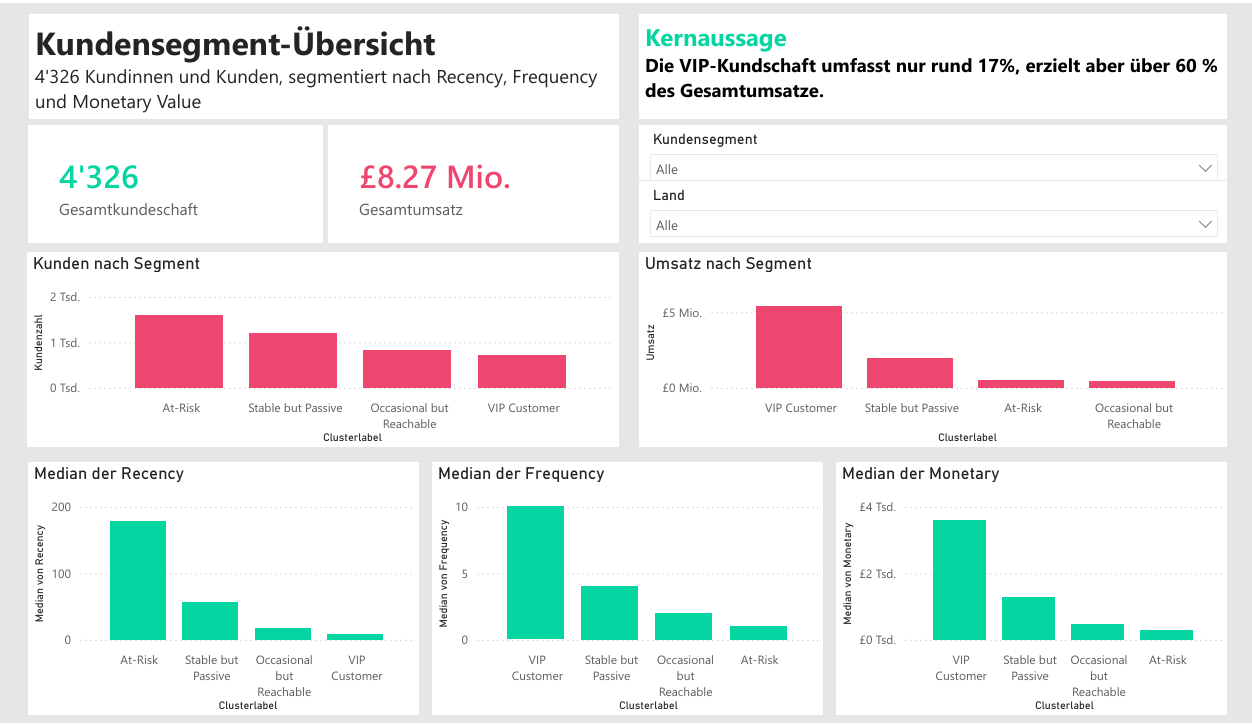

What the dashboard file says about the page in this screenshot:
{"tool":"powerbi","page":{"name":"Kundensegment-Übersicht","canvas":[1280,720],"ordinal":0},"visuals":[{"type":"cardVisual","fields":{"Data":["Count(rfm_final_cluster.CustomerID)"]},"box":[29,122,295,118],"z":0},{"type":"cardVisual","fields":{"Data":["Sum(rfm_final_cluster.AdjMonetary)"]},"box":[329,122,291,118],"z":1000},{"type":"columnChart","title":"Kunden nach Segment","fields":{"Category":["rfm_final_cluster.Clusterlabel"],"Y":["CountNonNull(rfm_final_cluster.CustomerID)"]},"box":[28,249,592,195],"z":2000},{"type":"columnChart","title":"Umsatz nach Segment","fields":{"Category":["rfm_final_cluster.Clusterlabel"],"Y":["Sum(rfm_final_cluster.AdjMonetary)"]},"box":[640,249,588.4,195],"z":3000},{"type":"slicer","fields":{"Values":["rfm_final_cluster.Clusterlabel"]},"box":[640,122,588,55],"z":4000},{"type":"slicer","fields":{"Values":["rfm_final_cluster.Country"]},"box":[640,178,588,62],"z":5000},{"type":"columnChart","title":"Median der Recency","fields":{"Y":["Median(rfm_final_cluster.Recency)"],"Category":["rfm_final_cluster.Clusterlabel"]},"box":[29,459,391,252.9],"z":6000},{"type":"columnChart","title":"Median der Frequency","fields":{"Y":["Median(rfm_final_cluster.Frequency)"],"Category":["rfm_final_cluster.Clusterlabel"]},"box":[433,459,391,252.9],"z":7000},{"type":"columnChart","title":"Median der Monetary","fields":{"Y":["Median(rfm_final_cluster.AdjMonetary)"],"Category":["rfm_final_cluster.Clusterlabel"]},"box":[837,459,391,252.9],"z":8000},{"type":"textbox","box":[30,11,590,105],"z":9000},{"type":"textbox","box":[640,11,588,105],"z":10000}]}

Visuals, with their boxes in screenshot pixels (x1, y1, x2, y2), scaled from the page's 1280x720 canvas onto the 1252x725 screenshot:
cardVisual - Count(rfm_final_cluster.CustomerID): 28 123 317 242
cardVisual - Sum(rfm_final_cluster.AdjMonetary): 322 123 606 242
"Kunden nach Segment" columnChart: 27 251 606 447
"Umsatz nach Segment" columnChart: 626 251 1202 447
slicer - rfm_final_cluster.Clusterlabel: 626 123 1201 178
slicer - rfm_final_cluster.Country: 626 179 1201 242
"Median der Recency" columnChart: 28 462 411 717
"Median der Frequency" columnChart: 424 462 806 717
"Median der Monetary" columnChart: 819 462 1201 717
textbox: 29 11 606 117
textbox: 626 11 1201 117
